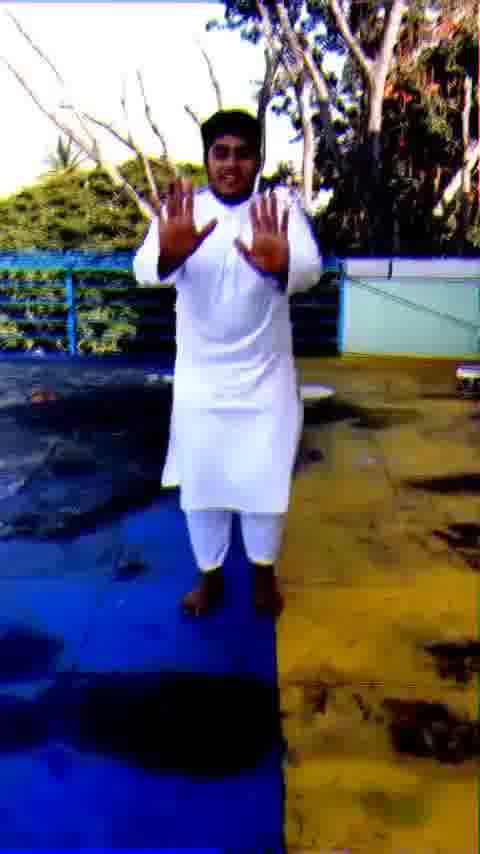duck: (125, 108, 340, 632)
